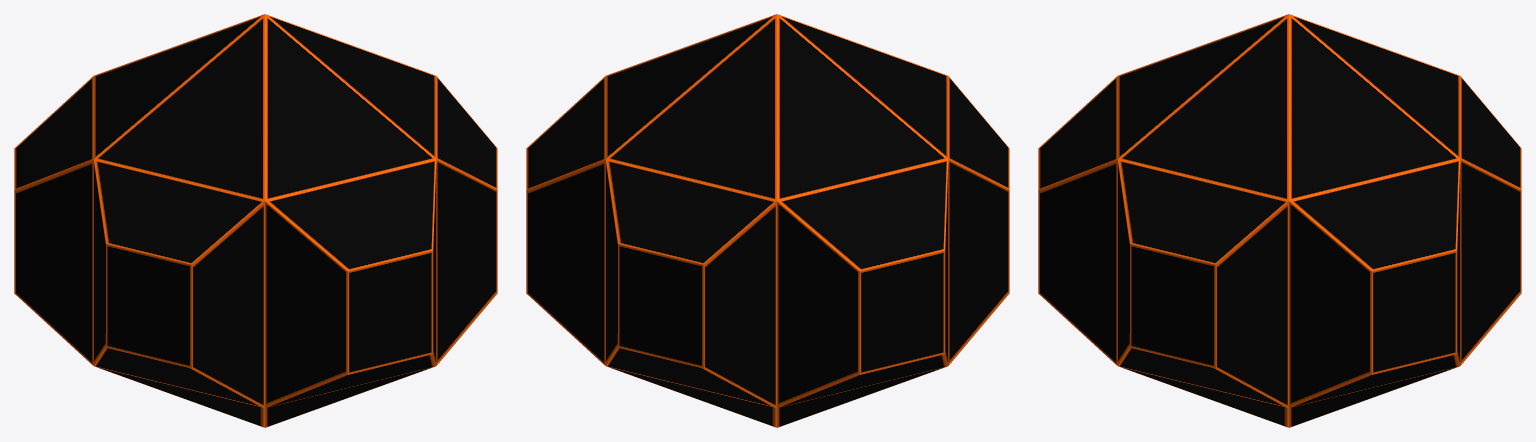
Rendered from Nyxem.fbx.
3 renders of one model, left to right at view 1: azimuth 30°, elevation 25°; view 2: azimuth 150°, elevation 25°; view 3: azimuth 270°, elevation 25°, orthographic.
Parts seen in each view (by area): view 1: pSphere1; view 2: pSphere1; view 3: pSphere1.
Boxes of the visible parts, bbox=[...] form: pSphere1: bbox=[14, 14, 497, 427]; pSphere1: bbox=[526, 14, 1009, 427]; pSphere1: bbox=[1038, 14, 1521, 427].
Size of the model in its own units: 2.12 by 2 by 2.12.
Materials: 1 (1 with a texture image).
